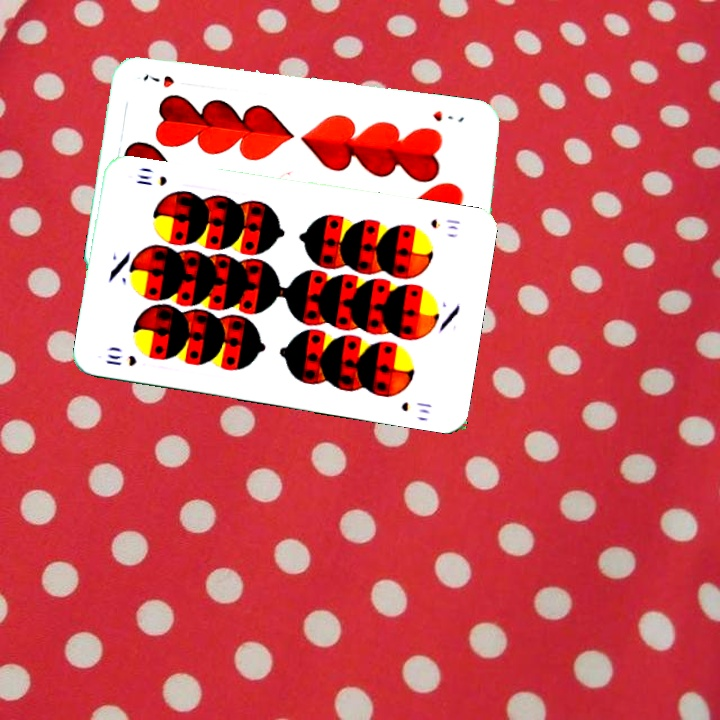H7: (429, 106, 467, 125)
S10: (101, 350, 139, 369), (427, 215, 463, 233)
